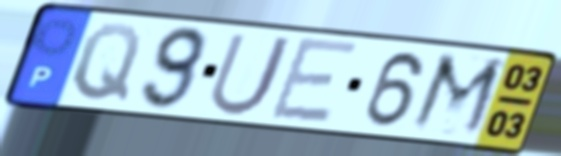6: (363, 49, 428, 130)
9: (136, 23, 208, 114)
E: (265, 34, 363, 126)
M: (404, 49, 512, 141)
Q: (68, 20, 145, 105)
U: (204, 30, 298, 119)
